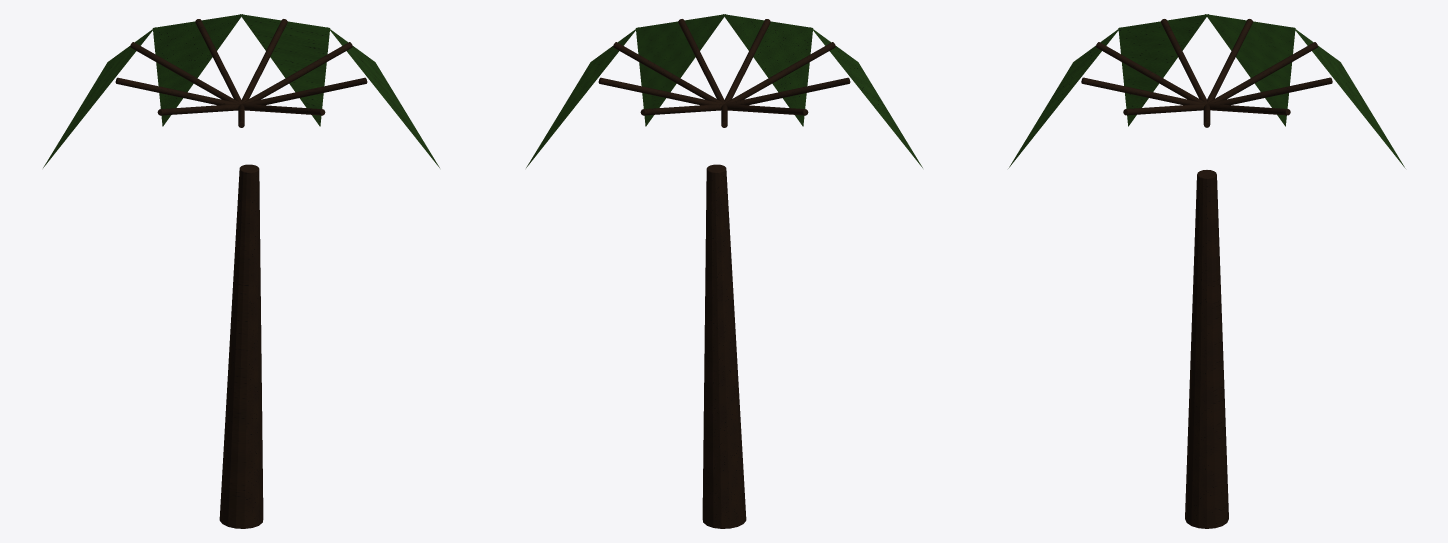
The model's file is PROP-8D9AC08D491F_lod0.glb.
3 views of the same model, side by side, from view 1: azimuth 30°, elevation 25°; view 2: azimuth 150°, elevation 25°; view 3: azimuth 270°, elevation 25° (orthographic).
Parts seen in each view (by area): view 1: trunk.023, palm_frond.001, palm_frond_spine.001; view 2: trunk.023, palm_frond.001, palm_frond_spine.001; view 3: trunk.023, palm_frond.001, palm_frond_spine.001.
Boxes of the visible parts, left/top/right/bottom form: trunk.023: left=219, top=164, right=263, bottom=528; palm_frond.001: left=43, top=14, right=439, bottom=167; palm_frond_spine.001: left=115, top=19, right=367, bottom=127; trunk.023: left=702, top=164, right=746, bottom=528; palm_frond.001: left=526, top=14, right=922, bottom=167; palm_frond_spine.001: left=598, top=19, right=850, bottom=127; trunk.023: left=1185, top=170, right=1228, bottom=528; palm_frond.001: left=1008, top=14, right=1405, bottom=168; palm_frond_spine.001: left=1081, top=19, right=1332, bottom=127.
Size of the model in its own units: 4.85 by 5.41 by 4.93.
2 materials, 2 textured.
